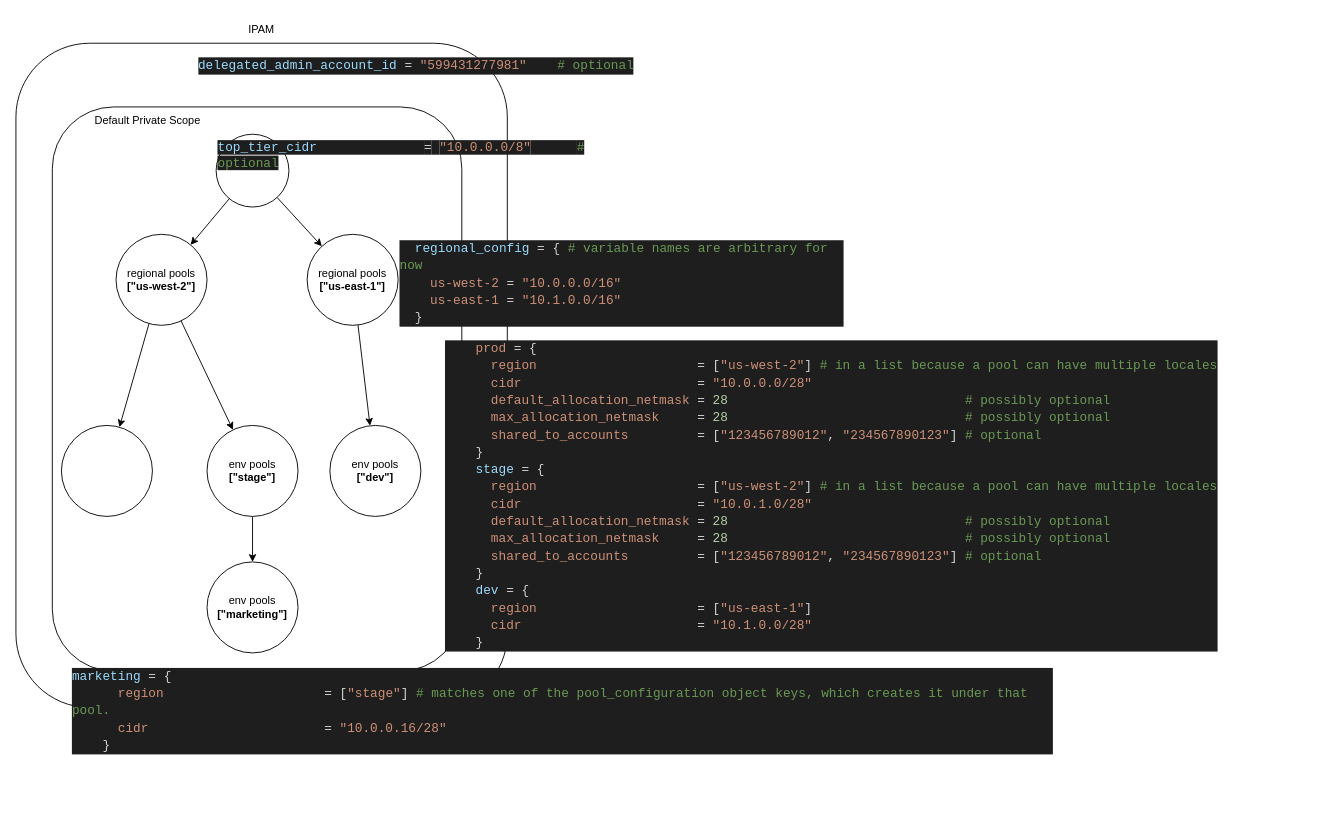
Some shapes in this 1333 by 814 pixel diagram are drawn without their labels. Here are the shapes that lost their labels. From the top down, the box of each, then its label:
(215, 133, 289, 207): top-level pool
(61, 425, 152, 516): env pools ["prod"]
